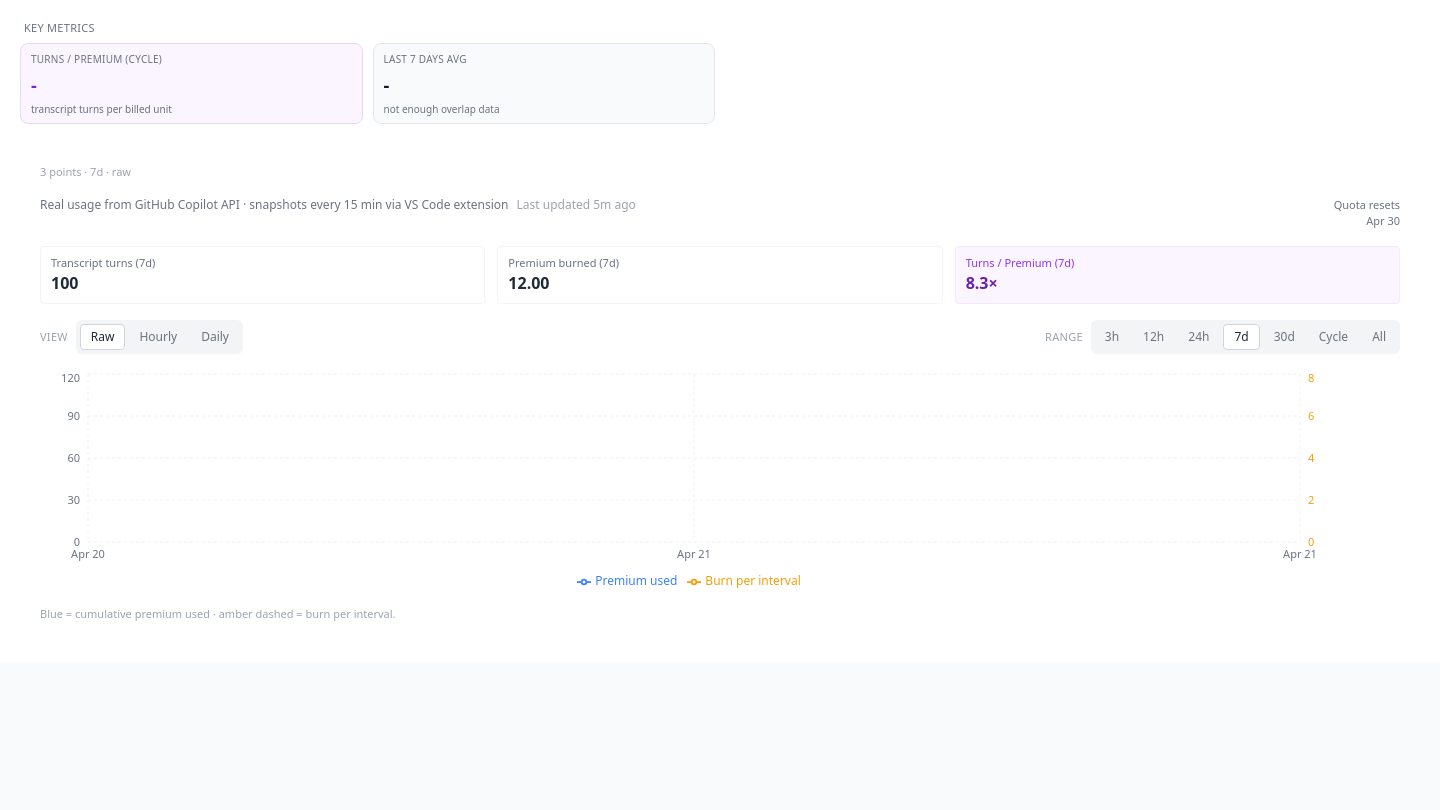
Test case: RoiExplorationPanel live stats › defaults the live premium panel open and derives today's stats from intraday data
The image size is (1440, 810).
expect the text "Turns / Premium (7d)" is shown: met, box [966,254,1074,270]
expect the text "Transcript turns (7d)" is shown: met, box [51,254,155,270]
Step 1. Click the button "24h" → {"x": 1199, "y": 337}, box [1178,325,1220,349]
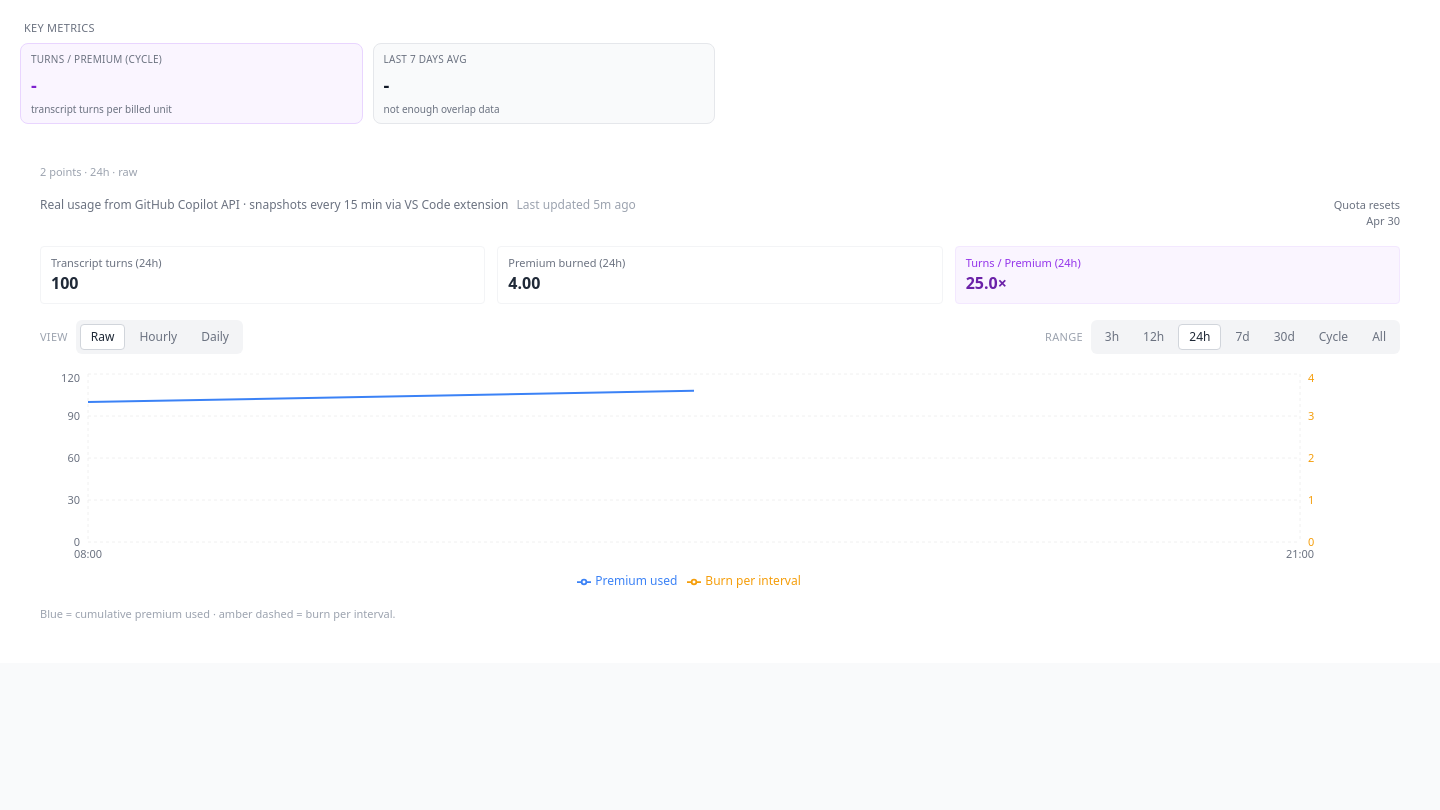
expect the text "Premium burned (24h)" is shown: met, box [508,254,625,270]
expect the text "4.00" is shown: met, box [508,272,540,294]
Step 2. Click the button "Daily" → {"x": 215, "y": 337}, box [191,325,239,349]
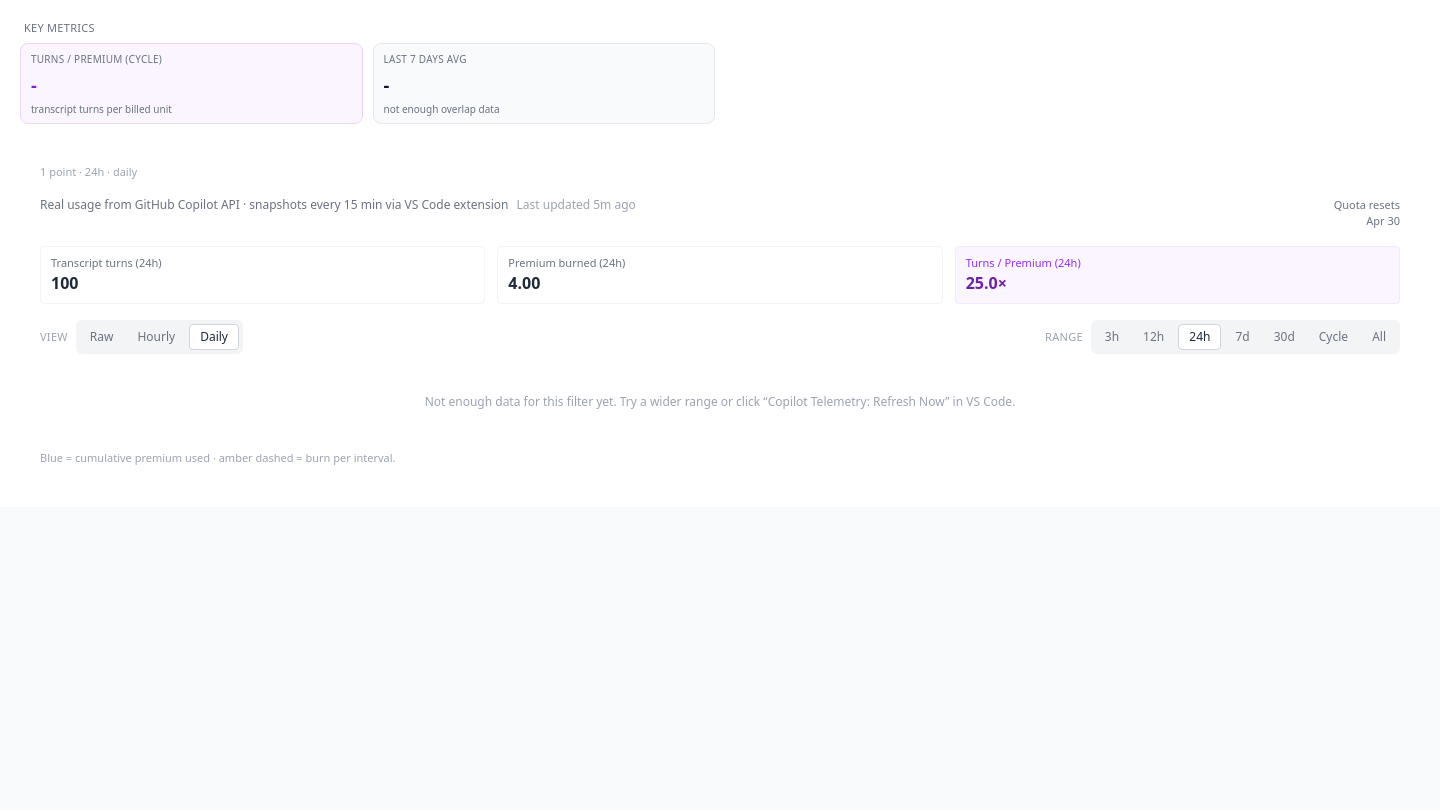
expect the text "1 point · 24h · daily" is shown: met, box [40,164,137,179]
